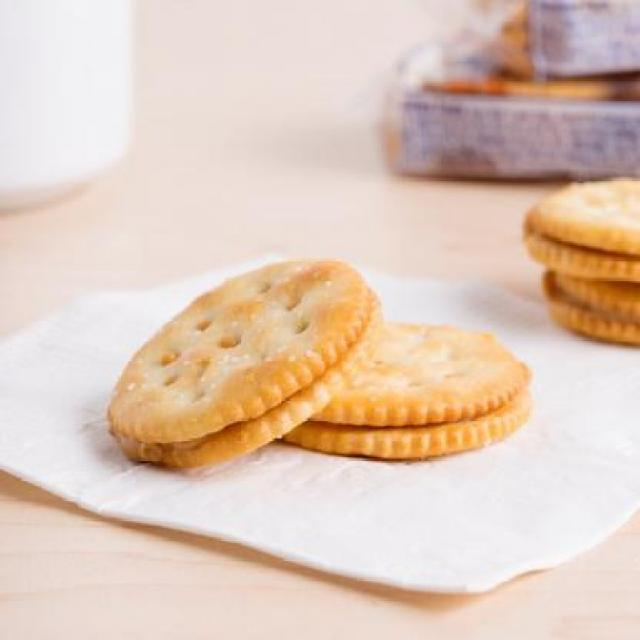Ritz cracker packaged: (106, 248, 392, 486)
